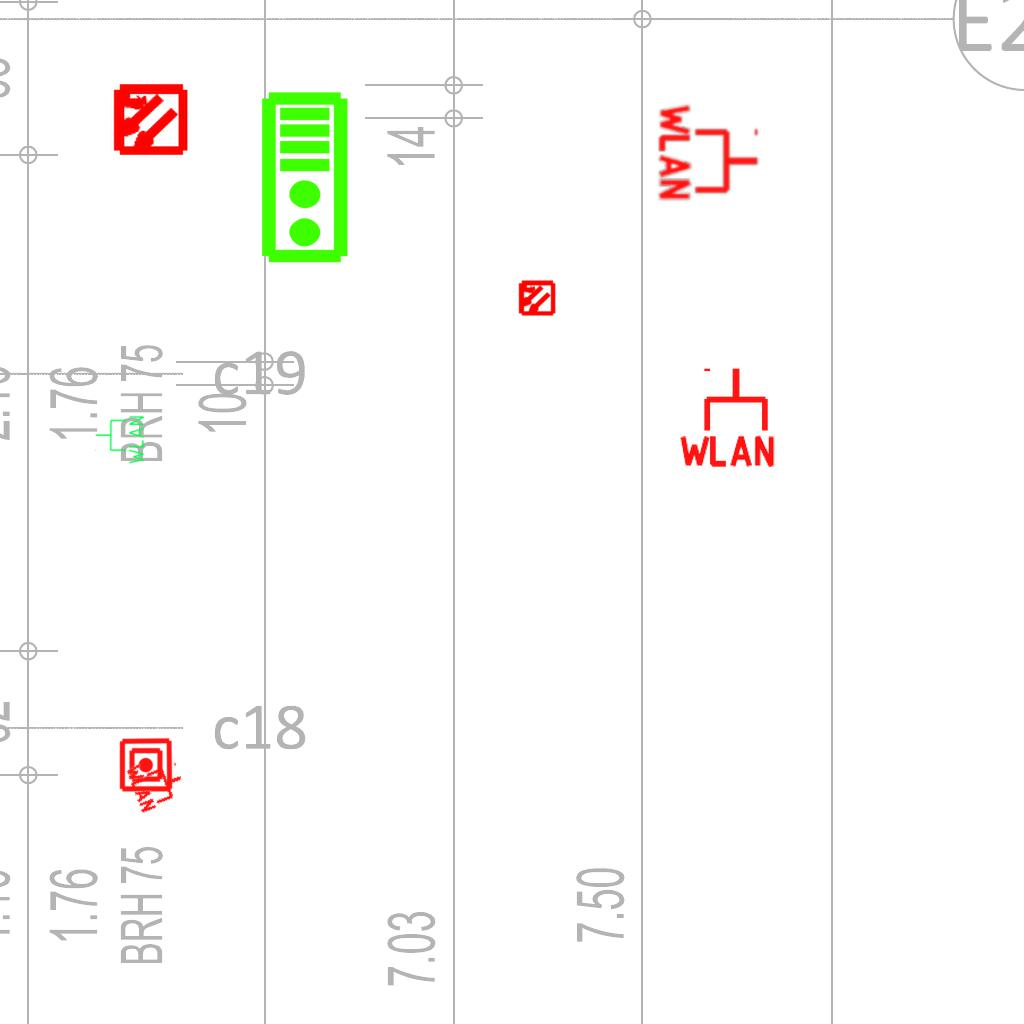Gegensprechanlage_mit_Video: (259, 90, 354, 266)
NAM-Nichtautomatischer_Melder: (118, 737, 174, 793)
OT_Multisensormelder_(Kombination_RMO_WMD): (92, 63, 205, 176), (508, 270, 564, 326)
WLAN: (675, 364, 779, 469), (657, 100, 762, 204), (123, 748, 191, 816), (94, 414, 146, 466)
